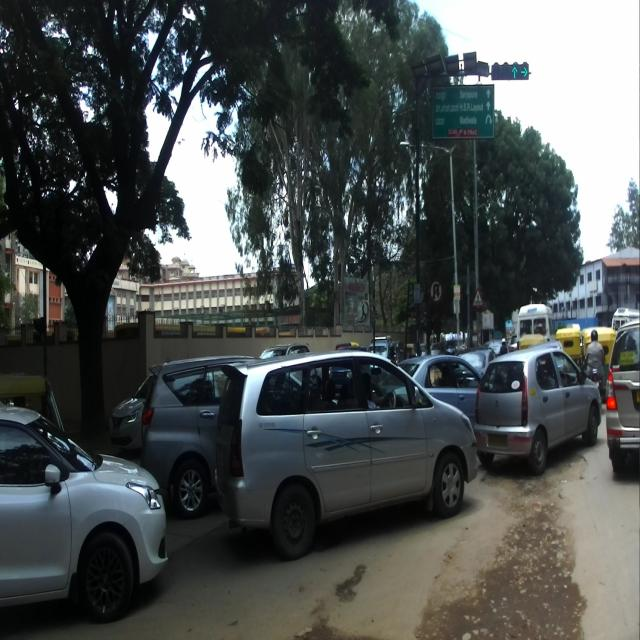Car_Maruti-Suzuki: (0, 403, 167, 622)
Car_TATA: (473, 344, 601, 475)
Car_Toyota: (214, 347, 476, 562), (139, 354, 263, 520)
autorickshaw: (0, 371, 66, 432)
